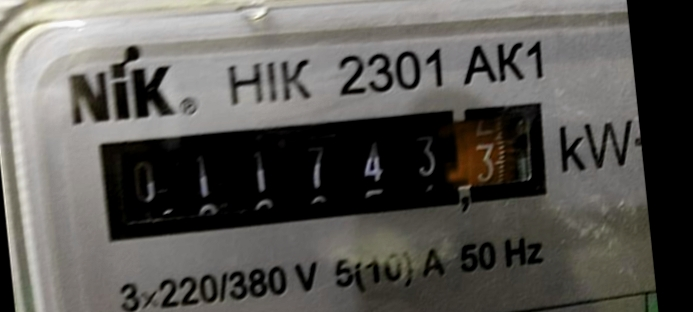0: (128, 156, 161, 206)
1: (247, 146, 273, 196), (192, 152, 214, 201)
3: (410, 130, 443, 180), (472, 139, 500, 185)
4: (357, 135, 389, 185)
7: (303, 142, 332, 192)
screen: (83, 88, 559, 253)
